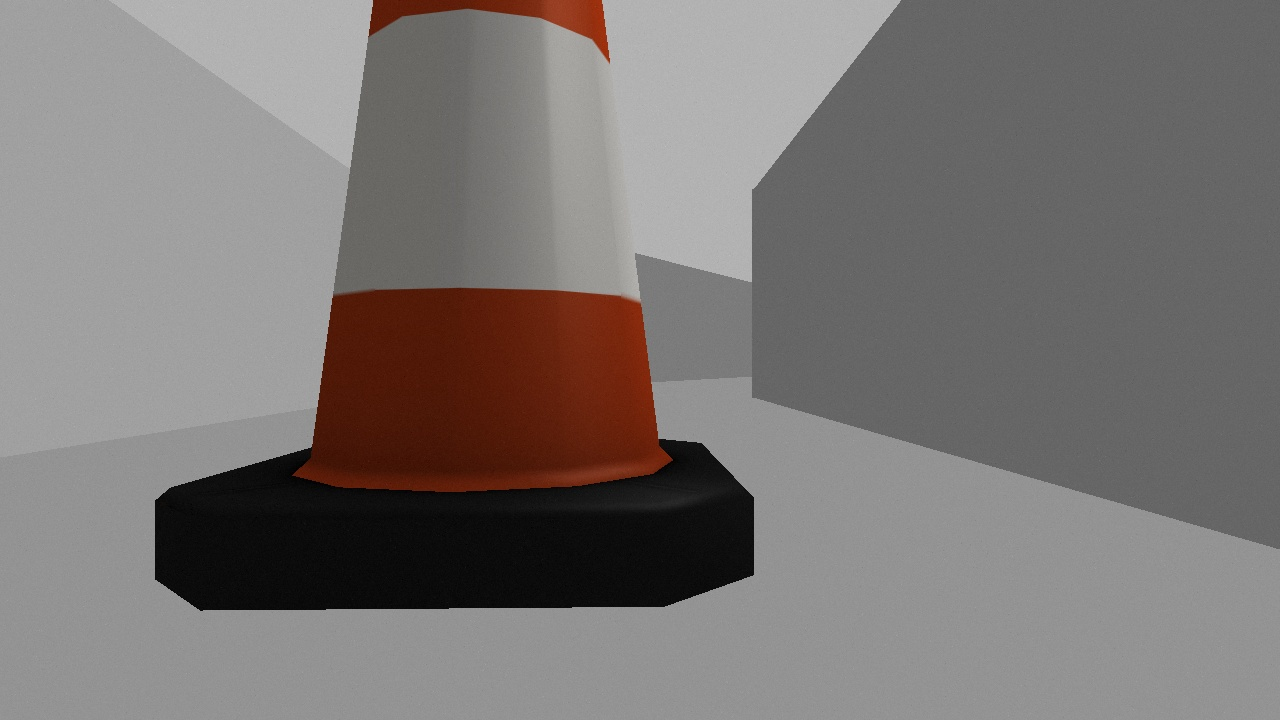barricade: (130, 1, 772, 632)
